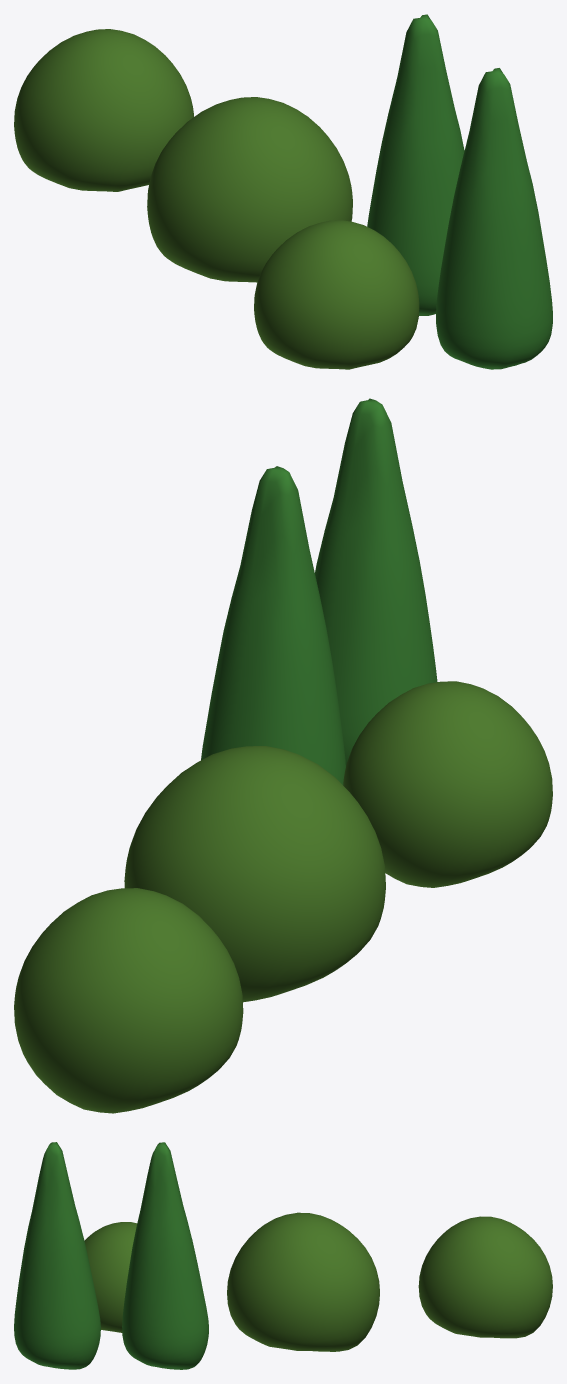
The model's file is Group_tree_1.fbx.
The picture shows the model from 3 angles, top to bottom: view 1: azimuth 30°, elevation 25°; view 2: azimuth 150°, elevation 25°; view 3: azimuth 270°, elevation 25°; orthographic projection. The views are drawn at different scales.
Parts seen in each view (by area): view 1: Icosphere.010, Icosphere.017, Icosphere.007, Icosphere.008, Icosphere.018; view 2: Icosphere.010, Icosphere.007, Icosphere.008, Icosphere.018, Icosphere.017; view 3: Icosphere.010, Icosphere.007, Icosphere.017, Icosphere.018, Icosphere.008.
Part boxes in pixels (x1,y1,x2,y2): Icosphere.010: [147, 97, 352, 282]; Icosphere.017: [436, 68, 552, 369]; Icosphere.007: [14, 29, 193, 191]; Icosphere.008: [254, 220, 419, 369]; Icosphere.018: [367, 14, 464, 315]; Icosphere.010: [124, 746, 385, 1002]; Icosphere.007: [14, 888, 243, 1113]; Icosphere.008: [343, 681, 552, 887]; Icosphere.018: [201, 466, 345, 785]; Icosphere.017: [315, 398, 437, 765]; Icosphere.010: [227, 1212, 379, 1351]; Icosphere.007: [418, 1216, 552, 1338]; Icosphere.017: [14, 1142, 100, 1369]; Icosphere.018: [122, 1142, 208, 1369]; Icosphere.008: [84, 1222, 137, 1332].
Size of the model in its own units: 192 by 243 by 516.
